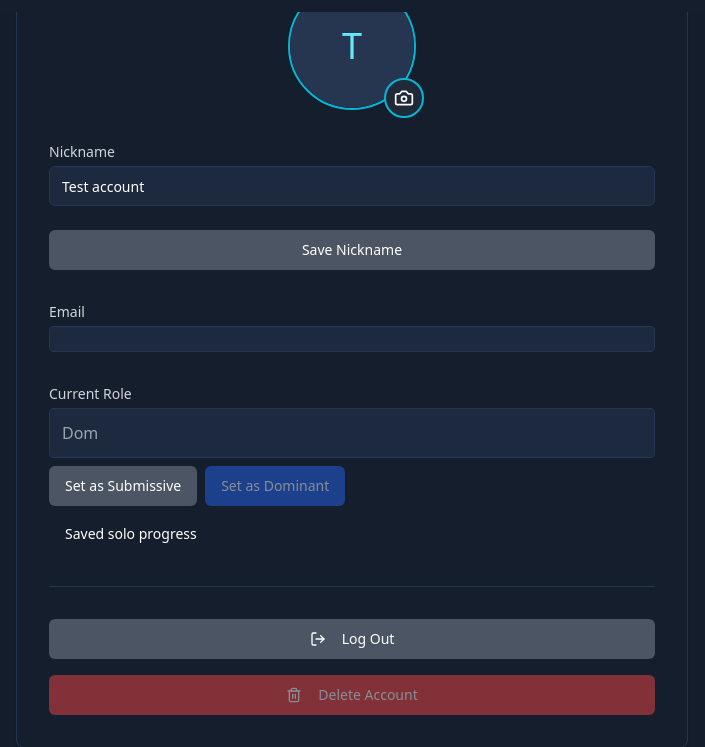
actual Profile role chooser › keeps preview rejection visible on Profile and requires fresh review instead of replaying or claiming success
Later steps or results of the test are not shown.
(page scrolled)
Click the button "Set as Submissive" at (123,486), box 49,466 -> 197,506
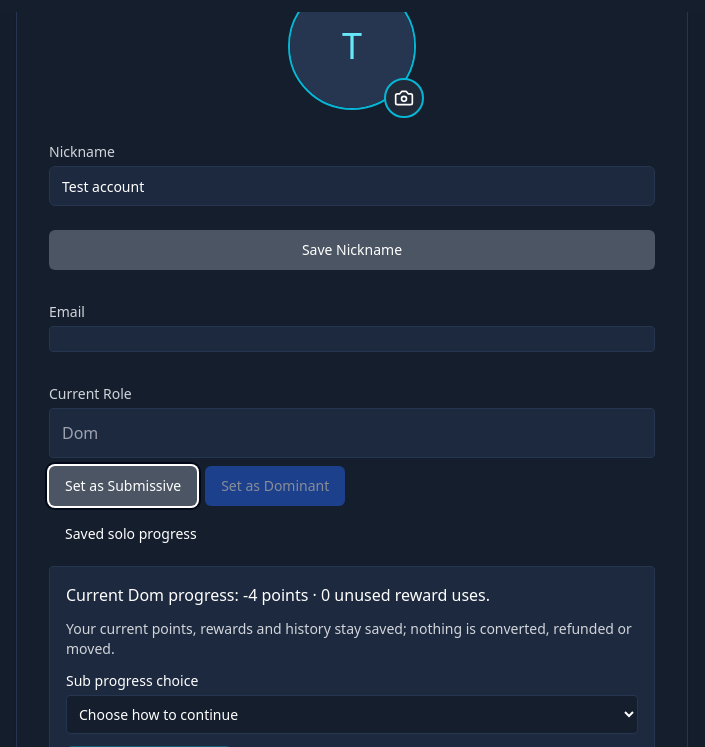
Now the text "Current Dom progress: -4 points · 0 unused reward uses." is shown, box 66,584 -> 490,606
Select "Start this role fresh" in the dropdown labelled "Sub progress choice" at (352,714), box 66,695 -> 638,734
(page scrolled)
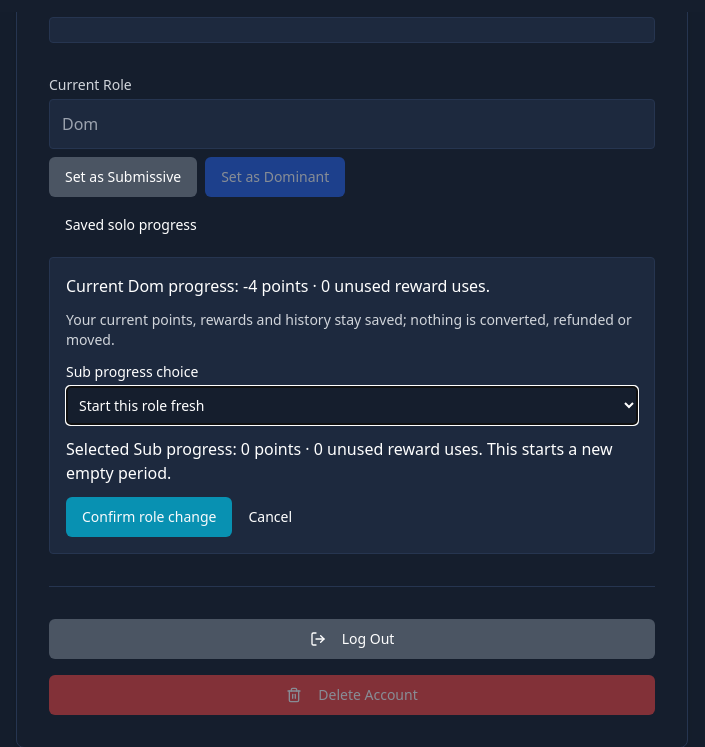
Click the button "Confirm role change" at (149,517), box 66,497 -> 232,537
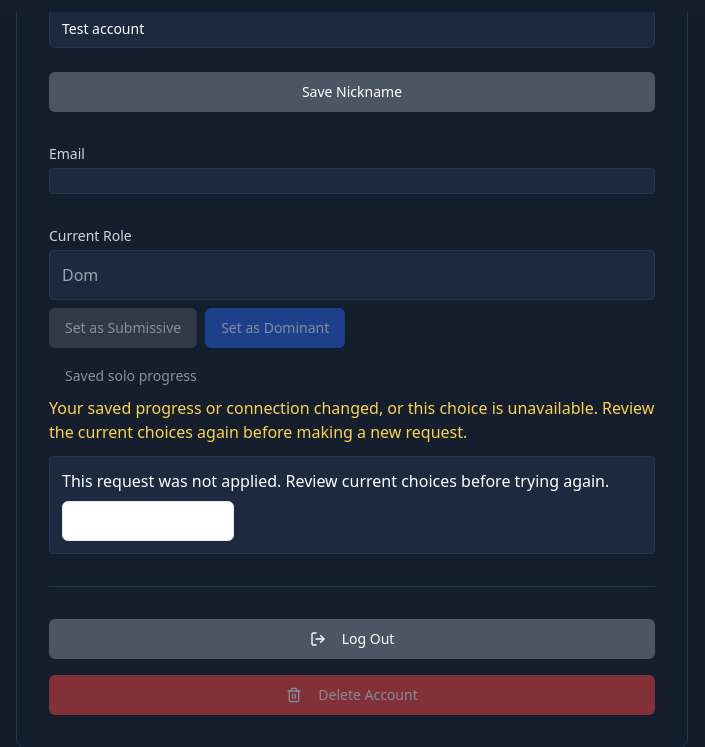
Expected: the text "dom" is shown, 49,250 -> 655,300
Now the message shows "Review the current choices again", box 49,397 -> 654,443
Now the text "This request was not applied. Review current choices before trying again." is shown, box 62,469 -> 642,493
